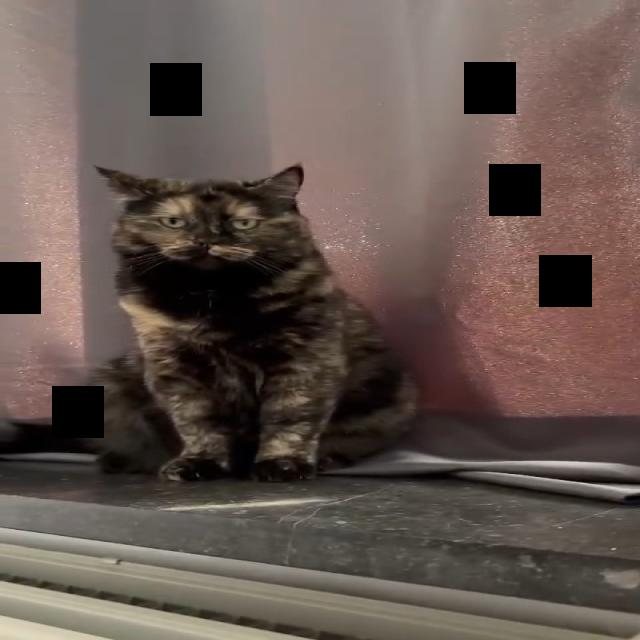authorized: (80, 162, 420, 483)
